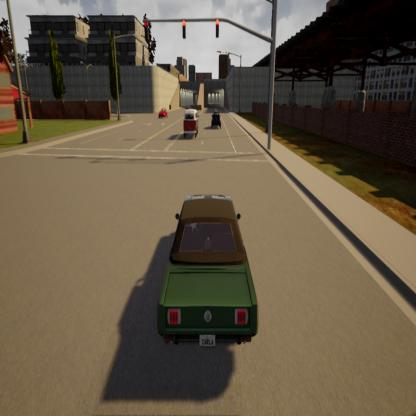Cars: (159, 193, 259, 350), (182, 103, 198, 141), (210, 109, 223, 132), (157, 105, 169, 121)
